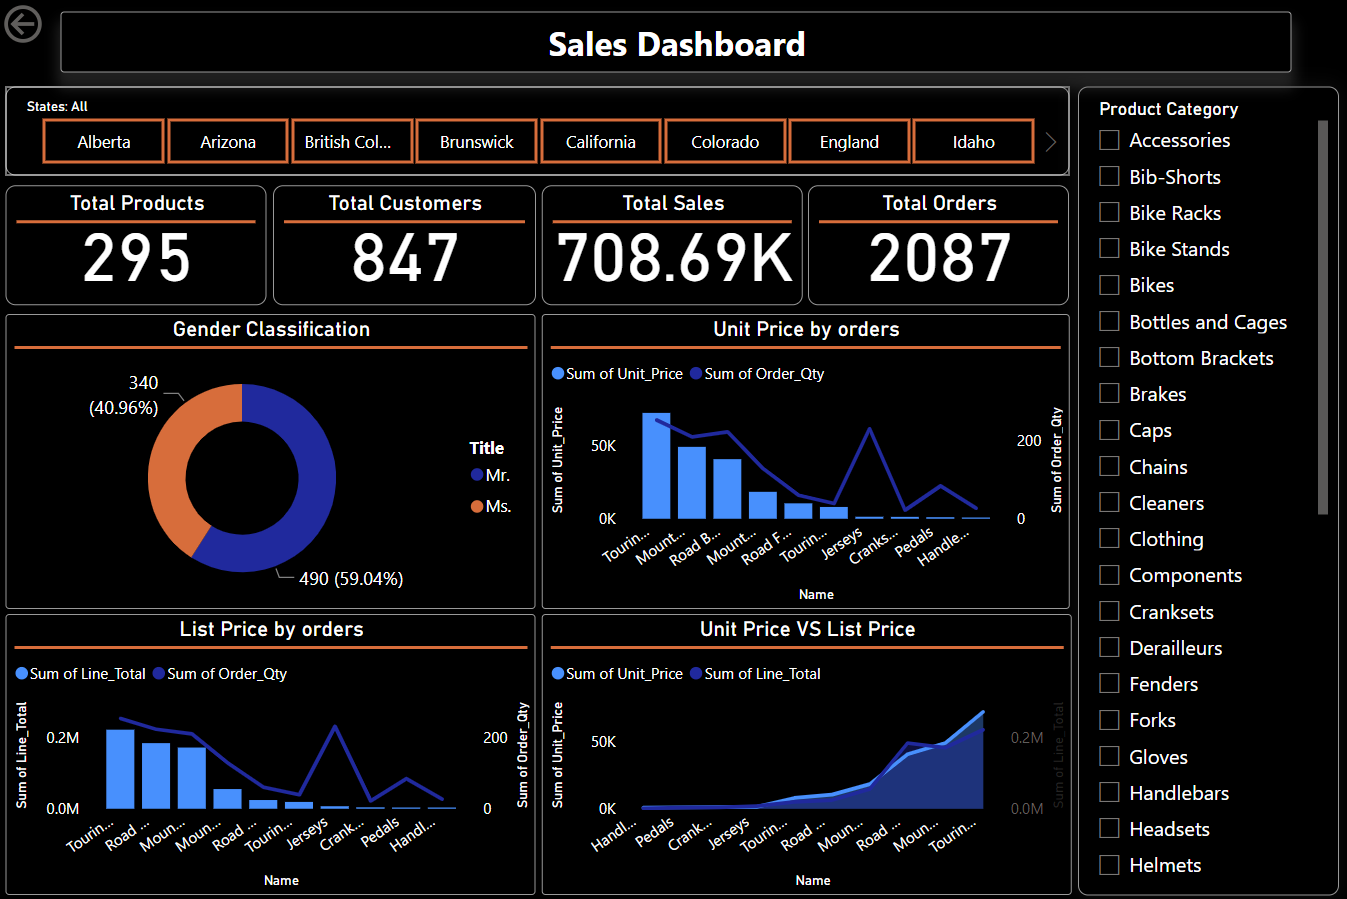

The dashboard page shown, as its layout file describes it:
{"tool":"powerbi","page":{"name":"Sales Dashboard","canvas":[1080,720],"ordinal":0},"visuals":[{"type":"slicer","fields":{"Values":["address.State_Province"]},"box":[5.6,70.2,851.6,71],"z":0},{"type":"donutChart","title":"Gender Classification","fields":{"Category":["Customer.Title"],"Y":["CountNonNull(Customer.Title)"]},"box":[5.6,252.4,424.2,235.5],"z":1000},{"type":"slicer","fields":{"Values":["ProductCategory.Name"]},"box":[863.7,70.2,209.7,646.8],"z":2000},{"type":"actionButton","box":[0,0,100,40],"z":3000},{"type":"lineClusteredColumnComboChart","title":"Unit Price by orders","fields":{"Category":["ProductCategory.Name"],"Y2":["Sum(SalesOrderDetail.Order_Qty)"],"Y":["Sum(SalesOrderDetail.Unit_Price)"]},"box":[434.7,252.4,422.6,235.5],"z":4000},{"type":"card","title":"Total Sales","fields":{"Values":["Sum(SalesOrderDetail.Line_Total)"]},"box":[434.7,149.2,208.9,96],"z":5000},{"type":"card","title":"Total Products","fields":{"Values":["CountNonNull(Product.Product_ID)"]},"box":[5.6,149.2,209.7,96],"z":6000},{"type":"card","title":"Total Customers","fields":{"Values":["CountNonNull(Customer.Customer_ID)"]},"box":[220.2,149.2,209.7,96],"z":7000},{"type":"card","title":"Total Orders","fields":{"Values":["Sum(SalesOrderDetail.Order_Qty)"]},"box":[648.4,149.2,208.9,96],"z":8000},{"type":"lineClusteredColumnComboChart","title":"List Price by orders","fields":{"Category":["ProductCategory.Name"],"Y2":["Sum(SalesOrderDetail.Order_Qty)"],"Y":["Sum(SalesOrderDetail.Line_Total)"]},"box":[5.6,491.9,424.2,225],"z":9000},{"type":"areaChart","title":"Unit Price VS List Price","fields":{"Category":["ProductCategory.Name"],"Y2":["Sum(SalesOrderDetail.Line_Total)"],"Y":["Sum(SalesOrderDetail.Unit_Price)"]},"box":[434.7,491.9,424.2,225],"z":10000},{"type":"textbox","box":[50,9.7,985.5,49.2],"z":11000}]}

Visuals, with their boxes in screenshot pixels (x1, y1, x2, y2), scaled from the page's 1080x720 canvas onto the 1347x899 screenshot:
slicer - address.State_Province: <region>7, 88, 1069, 176</region>
"Gender Classification" donutChart: <region>7, 315, 536, 609</region>
slicer - ProductCategory.Name: <region>1077, 88, 1339, 895</region>
actionButton: <region>0, 0, 125, 50</region>
"Unit Price by orders" lineClusteredColumnComboChart: <region>542, 315, 1069, 609</region>
"Total Sales" card: <region>542, 186, 803, 306</region>
"Total Products" card: <region>7, 186, 269, 306</region>
"Total Customers" card: <region>275, 186, 536, 306</region>
"Total Orders" card: <region>809, 186, 1069, 306</region>
"List Price by orders" lineClusteredColumnComboChart: <region>7, 614, 536, 895</region>
"Unit Price VS List Price" areaChart: <region>542, 614, 1071, 895</region>
textbox: <region>62, 12, 1291, 74</region>
